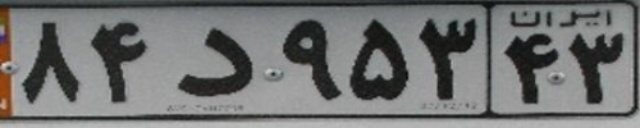3: (418, 16, 476, 100), (569, 30, 622, 104)
4: (87, 21, 148, 103), (504, 31, 560, 103)
5: (349, 18, 408, 99)
8: (22, 20, 79, 103)
9: (280, 16, 342, 100)
dal: (177, 25, 255, 97)
